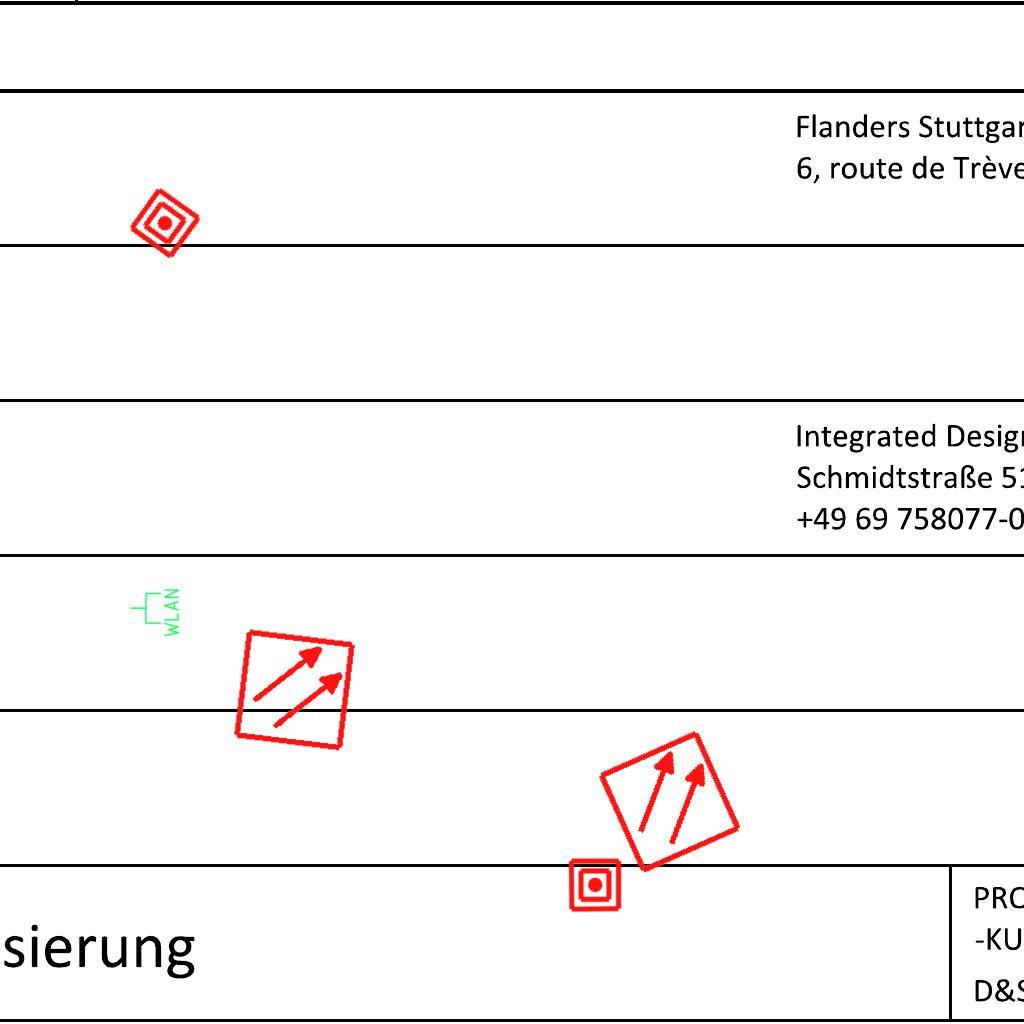NAM-Nichtautomatischer_Melder: (125, 183, 205, 263), (567, 857, 623, 913)
RMO_Rauchmelder_optischer: (594, 726, 745, 877), (231, 626, 358, 753)
WLAN: (129, 587, 181, 639)
